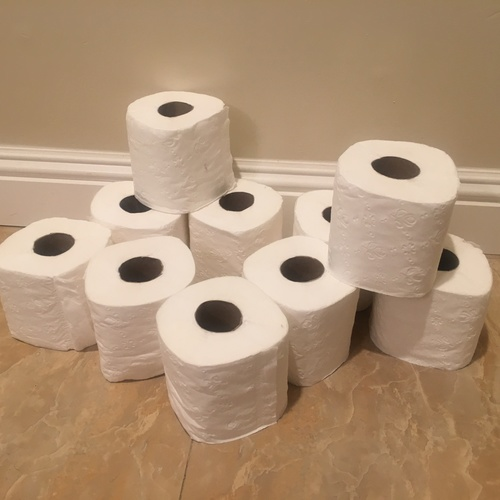roll: (156, 275, 290, 443), (328, 135, 459, 297), (241, 235, 361, 388), (368, 230, 493, 370), (84, 235, 196, 382), (1, 217, 114, 351), (126, 90, 237, 213), (294, 188, 371, 313), (189, 180, 283, 276), (90, 181, 189, 247)
